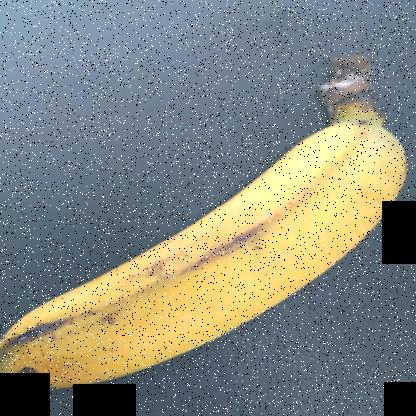freshripe: (0, 115, 397, 404)
